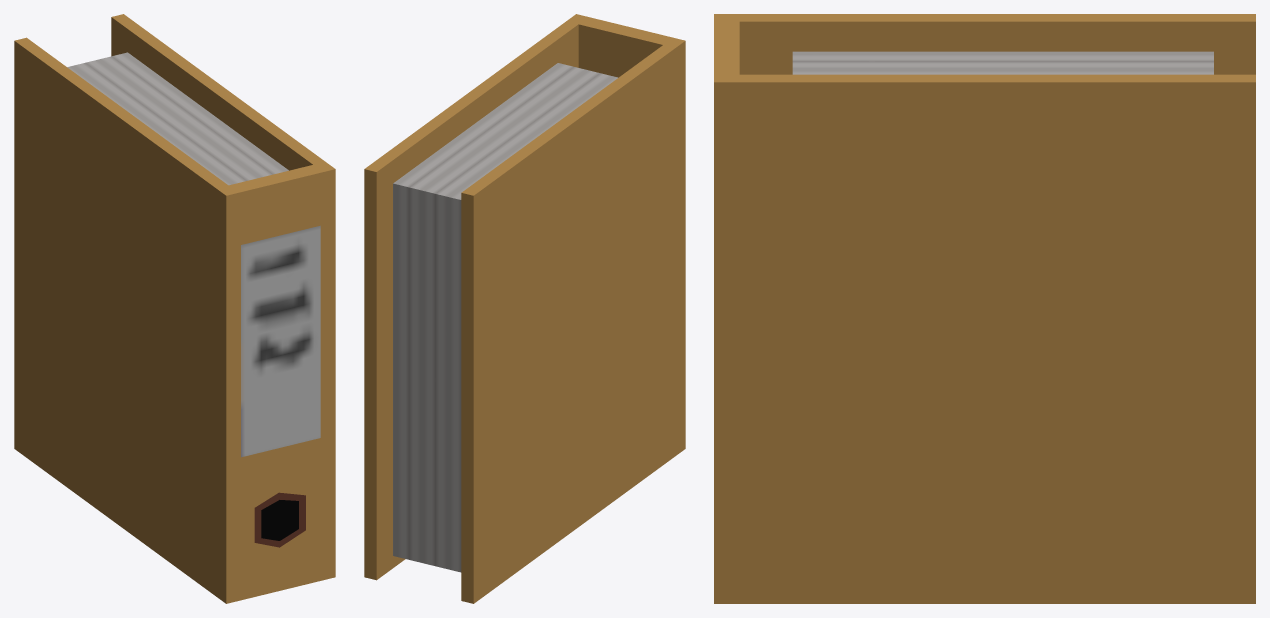
File: SM_Prop_Folder_PVC_01.fbx
3 renders of one model, left to right at view 1: azimuth 30°, elevation 25°; view 2: azimuth 150°, elevation 25°; view 3: azimuth 270°, elevation 25°, orthographic. The views are drawn at different scales.
Parts seen in each view (by area): view 1: SM_Prop_Folder_PVC_01; view 2: SM_Prop_Folder_PVC_01; view 3: SM_Prop_Folder_PVC_01.
Part boxes in pixels (left/top/right/bottom): SM_Prop_Folder_PVC_01: left=14, top=14, right=335, bottom=603; SM_Prop_Folder_PVC_01: left=364, top=14, right=685, bottom=603; SM_Prop_Folder_PVC_01: left=714, top=14, right=1255, bottom=603.
Size of the model in its own units: 11.3 by 40.29 by 37.91.
